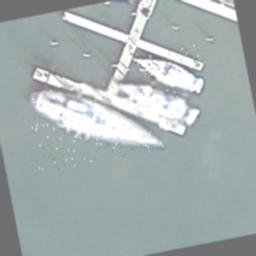boat: (24, 70, 164, 174), (117, 71, 200, 138), (130, 42, 206, 106)
